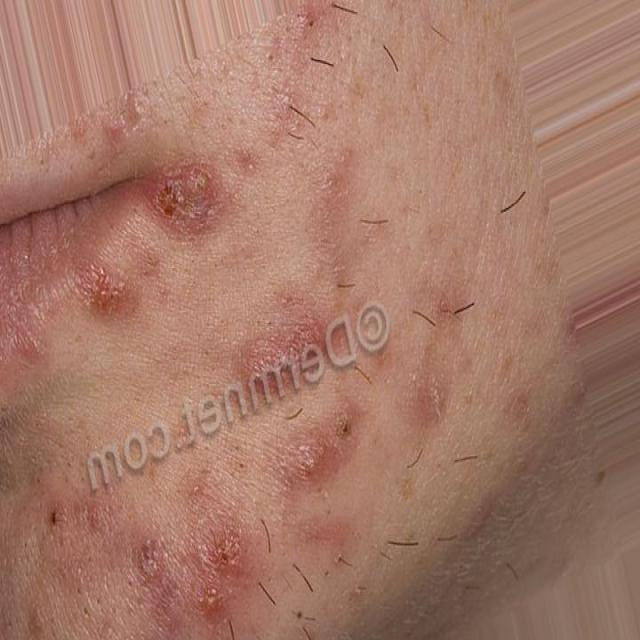acne: (284, 276, 338, 376), (402, 362, 460, 444), (262, 62, 307, 148), (310, 168, 368, 232), (146, 180, 228, 224), (234, 347, 296, 400), (290, 427, 340, 484), (79, 260, 134, 310), (212, 522, 250, 586), (229, 140, 269, 190), (26, 316, 54, 380), (139, 544, 180, 586), (198, 580, 232, 624)
